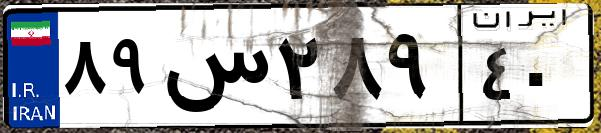0: (525, 38, 570, 115)
2: (270, 28, 330, 110)
4: (475, 38, 525, 113)
8: (330, 28, 385, 110), (57, 26, 110, 100)
9: (385, 28, 445, 110), (110, 28, 158, 98)
س: (158, 20, 270, 120)
